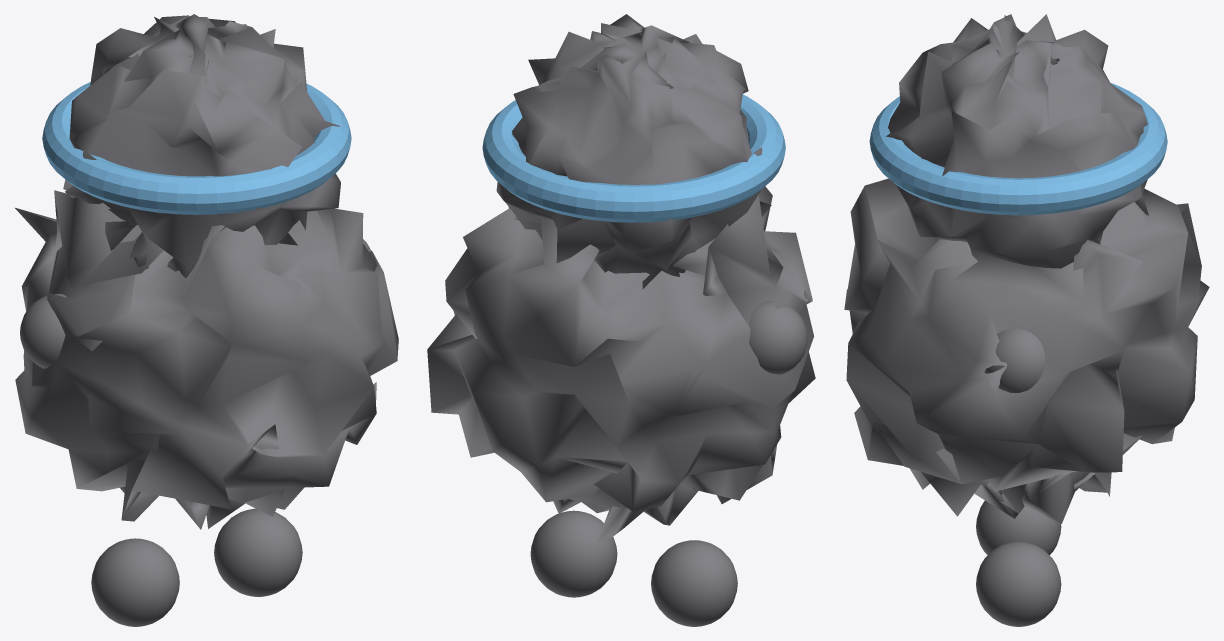
File: clay_headset_penguin.glb
3 views of the same model, side by side, from view 1: azimuth 30°, elevation 25°; view 2: azimuth 150°, elevation 25°; view 3: azimuth 270°, elevation 25° (orthographic). The views are drawn at different scales.
Parts seen in each view (by area): view 1: headset; view 2: headset; view 3: headset.
Boxes of the visible parts, box(x1,y1,x2,y2) form: headset: box(15, 14, 398, 626); headset: box(427, 14, 815, 626); headset: box(844, 14, 1209, 626).
Size of the model in its own units: 1.25 by 2.01 by 1.18.
